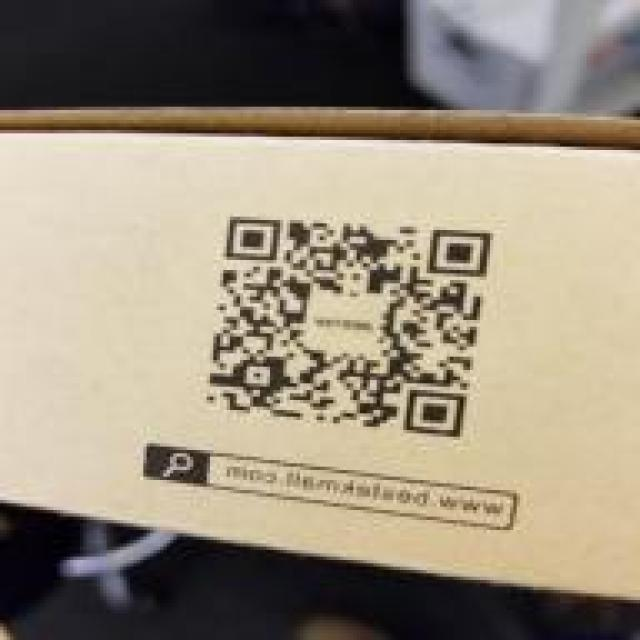QR_CODE: (183, 190, 520, 448)
